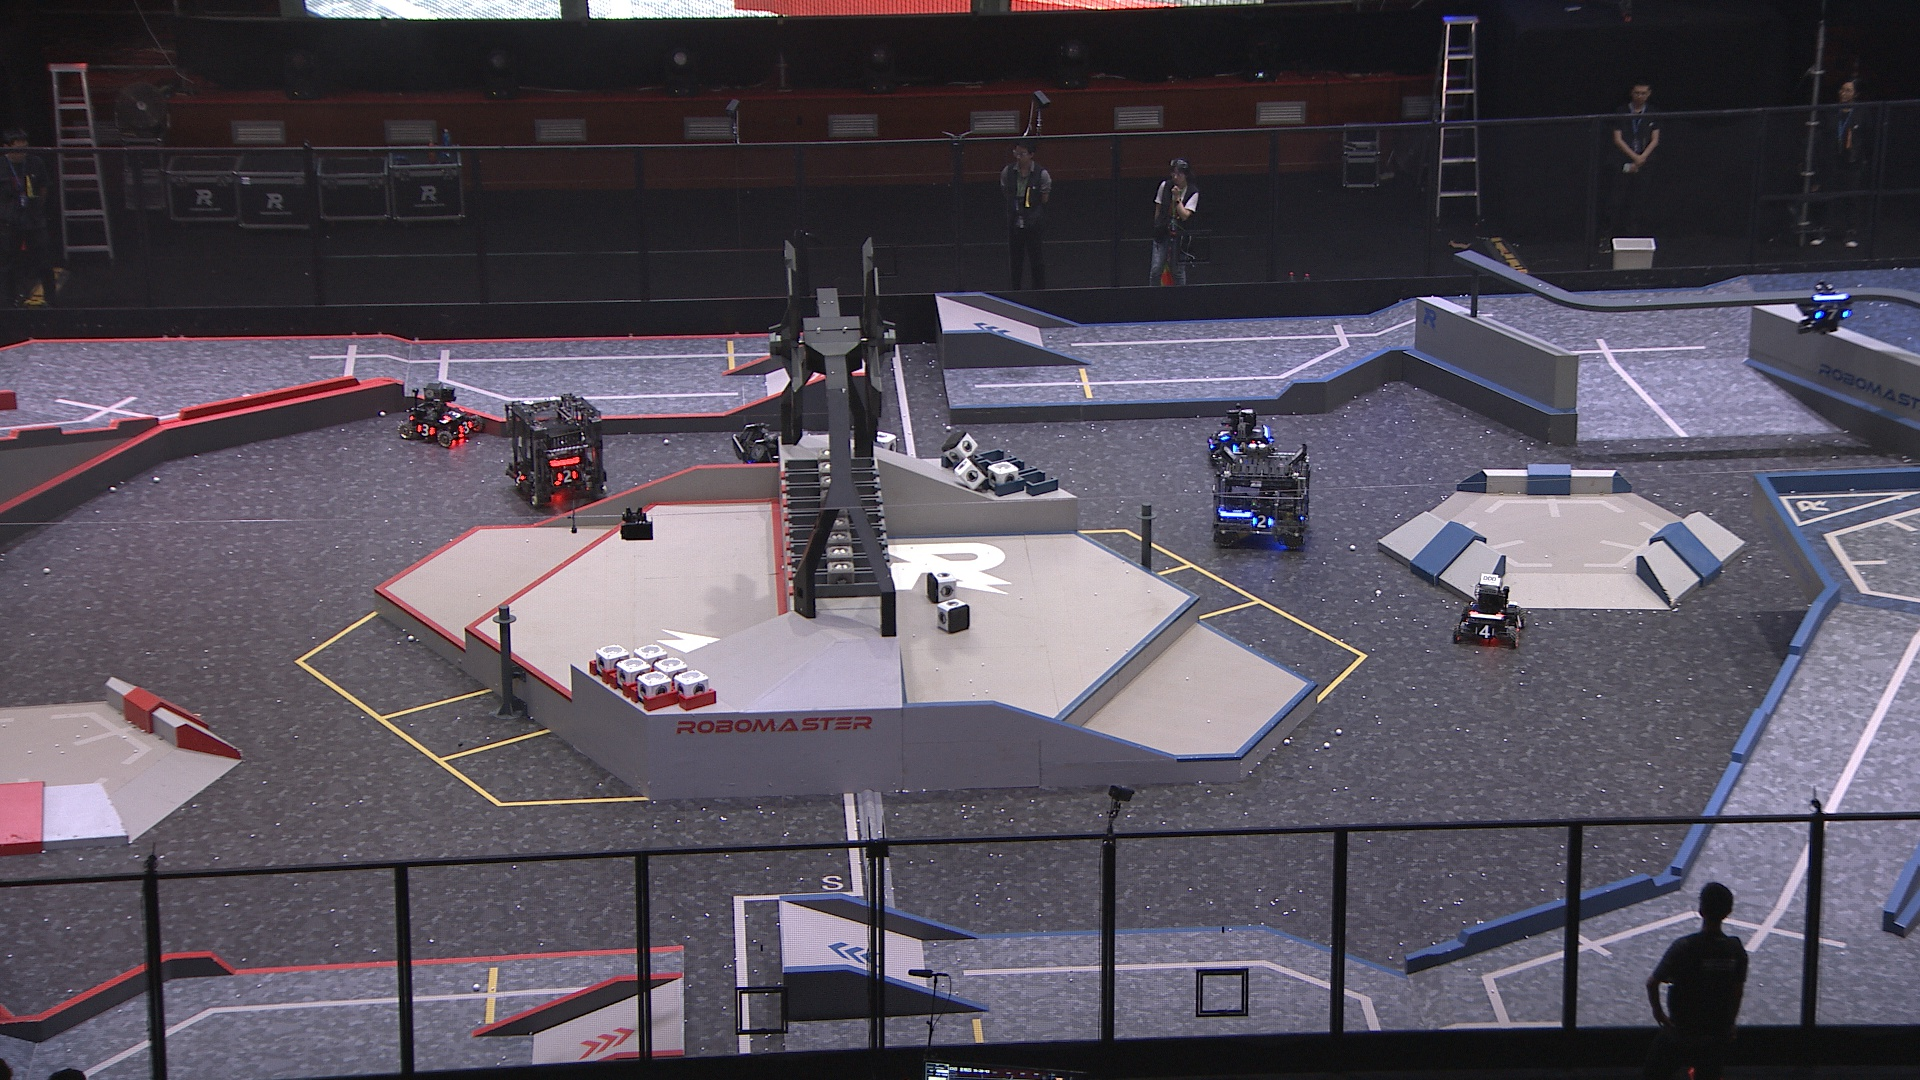armor: (1815, 305, 1850, 320), (556, 467, 580, 484), (444, 405, 465, 422), (1251, 516, 1273, 531), (1472, 624, 1494, 638), (415, 422, 436, 436), (512, 467, 527, 483), (456, 419, 473, 433), (1513, 611, 1523, 629), (1218, 429, 1230, 442)
car: (502, 392, 612, 504), (1207, 440, 1313, 550), (732, 417, 822, 498), (1453, 575, 1531, 651), (400, 381, 484, 450), (1207, 404, 1275, 471)
watcher: (1793, 281, 1854, 338)
